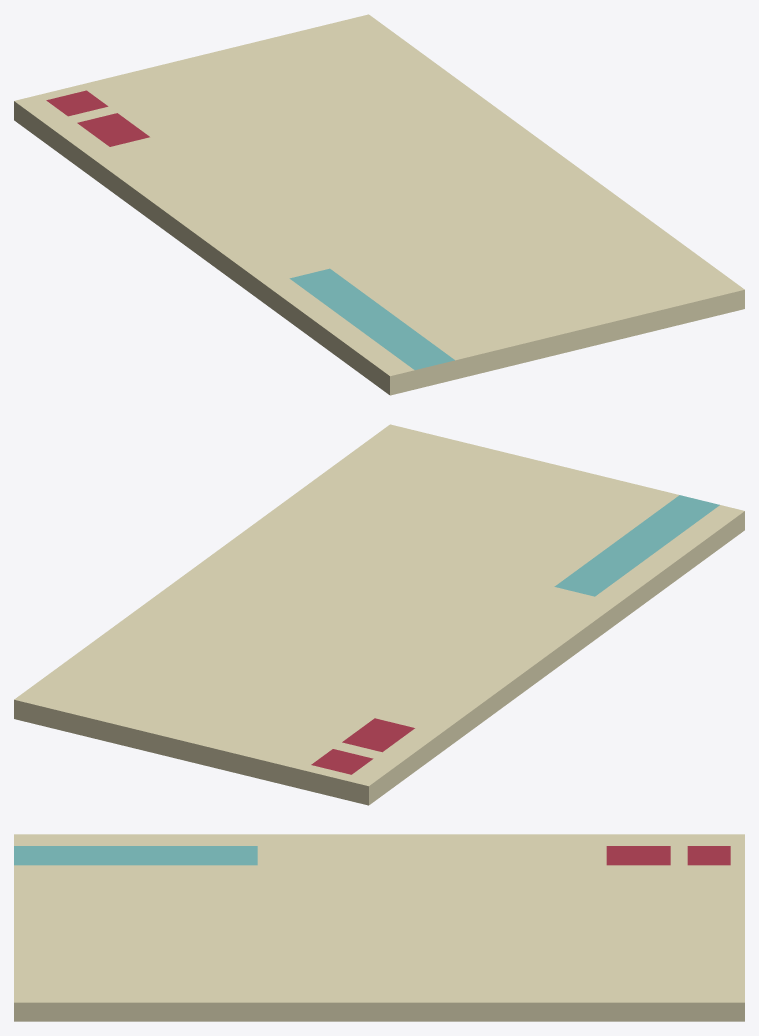
The model's file is Prop_Envelope.fbx.
3 views of the same model, one above another, from view 1: azimuth 30°, elevation 25°; view 2: azimuth 150°, elevation 25°; view 3: azimuth 270°, elevation 25° (orthographic). The views are drawn at different scales.
Visible parts, largest first — view 1: Cube.378; view 2: Cube.378; view 3: Cube.378.
Boxes of the visible parts, x1,y1,x2,y2 form: Cube.378: (14, 14, 744, 395); Cube.378: (14, 424, 744, 805); Cube.378: (14, 834, 744, 1021).
Size of the model in its own units: 16.11 by 1.04 by 29.58.
